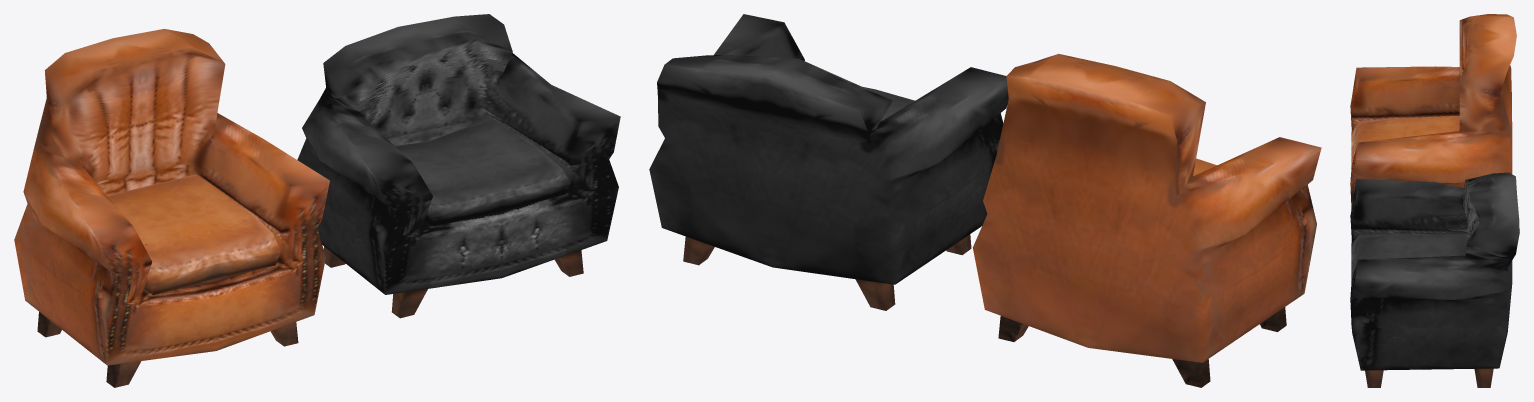
3 views of the same model, side by side, from view 1: azimuth 30°, elevation 25°; view 2: azimuth 150°, elevation 25°; view 3: azimuth 270°, elevation 25° (orthographic). The views are drawn at different scales.
Visible parts, largest first — view 1: p1, p2; view 2: p1, p2; view 3: p2, p1.
Boxes of the visible parts, x1,y1,x2,y2 form: p1: [14, 29, 329, 387]; p2: [297, 14, 620, 318]; p1: [972, 54, 1321, 387]; p2: [649, 14, 1008, 310]; p2: [1350, 172, 1519, 387]; p1: [1350, 14, 1516, 209].
Bounding box in the file's own units: 8.45 × 3.99 × 2.97.
Materials: 2 (2 with a texture image).
